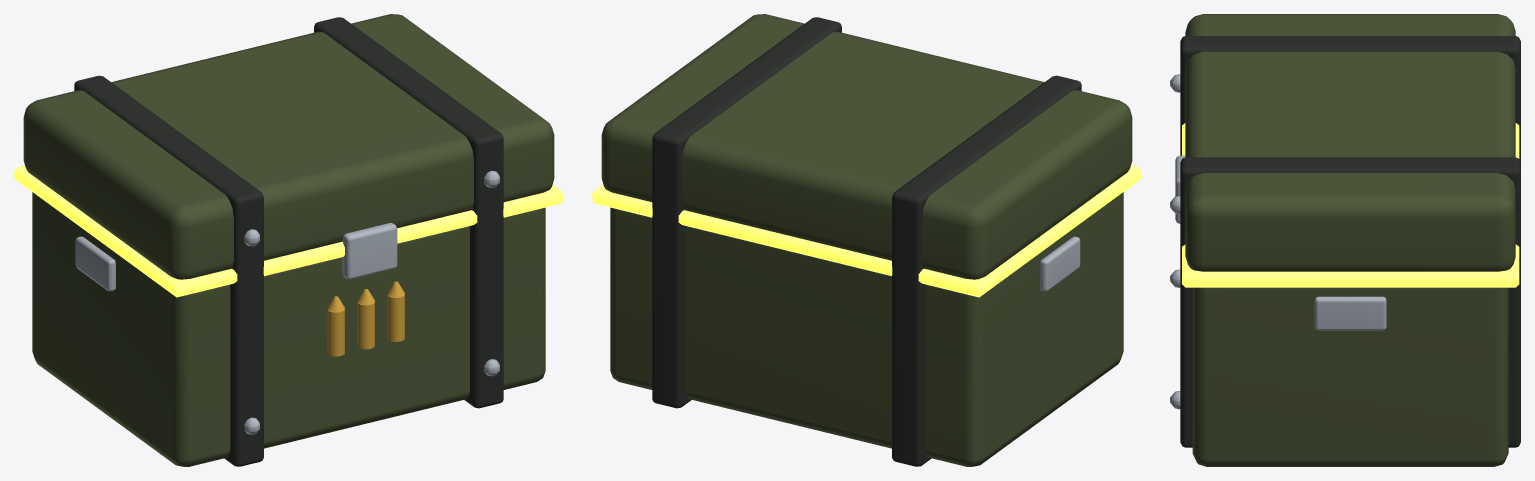
File: chest.glb
3 views of the same model, side by side, from view 1: azimuth 30°, elevation 25°; view 2: azimuth 150°, elevation 25°; view 3: azimuth 270°, elevation 25° (orthographic). The views are drawn at different scales.
Visible parts, largest first — view 1: lid.001, body.001, bands, seam, hardware.001, bullets; view 2: lid.001, body.001, bands, seam, hardware.001; view 3: lid.001, body.001, bands, seam, hardware.001.
Boxes of the visible parts, x1,y1,x2,y2 form: lid.001: (23, 14, 554, 279); body.001: (32, 192, 545, 466); bands: (74, 17, 503, 466); seam: (14, 165, 563, 297); hardware.001: (75, 170, 499, 434); bullets: (327, 281, 404, 356); lid.001: (601, 14, 1132, 279); body.001: (610, 192, 1123, 466); bands: (652, 17, 1081, 466); seam: (592, 165, 1141, 297); hardware.001: (1040, 236, 1080, 291); lid.001: (1185, 14, 1515, 271); body.001: (1192, 287, 1508, 466); bands: (1180, 36, 1520, 447); seam: (1182, 123, 1519, 287); hardware.001: (1170, 74, 1386, 409).
Bounding box in the file's own units: 0.658 × 0.43 × 0.4884.
